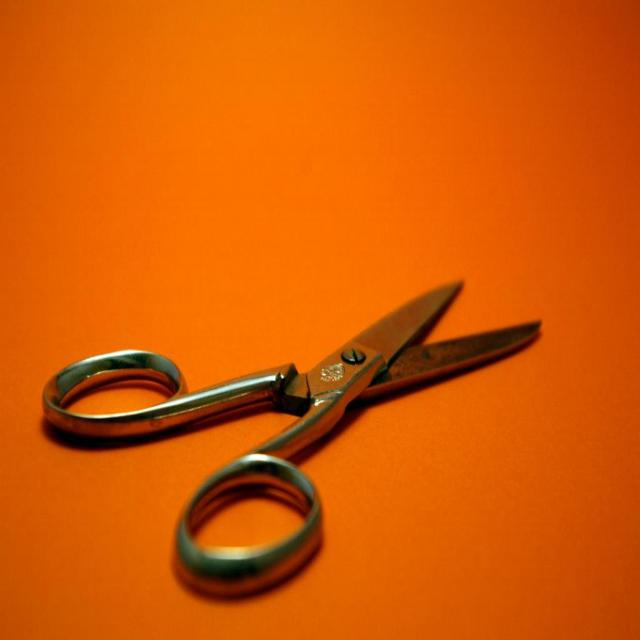scissor: (42, 277, 545, 604)
